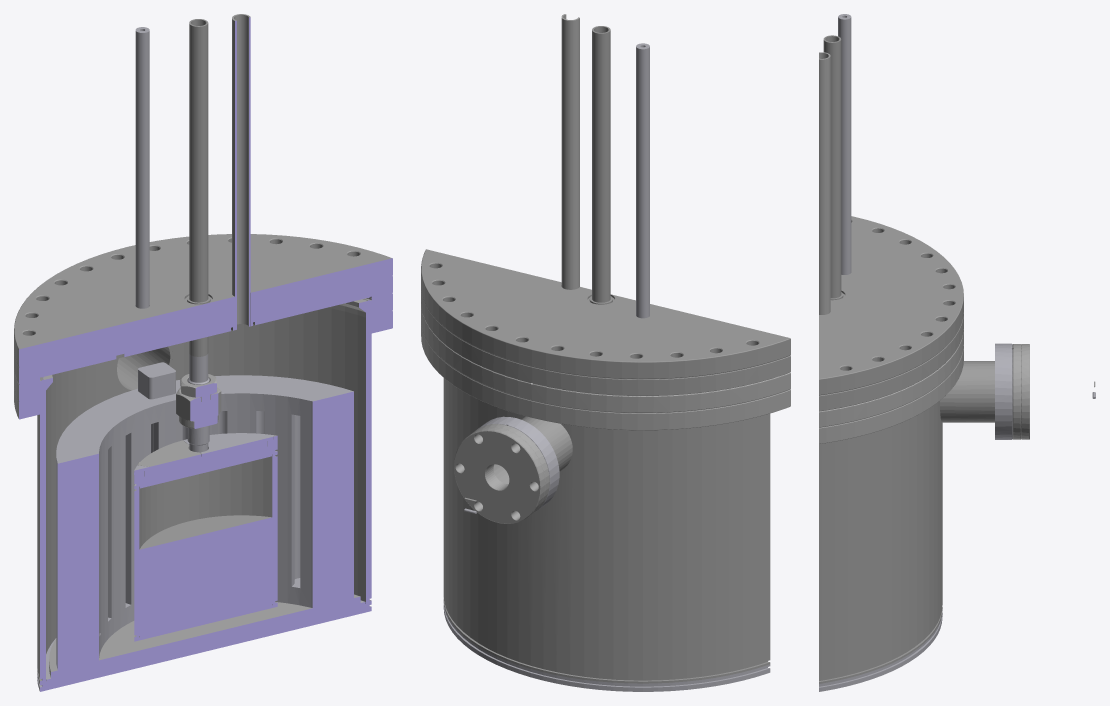
File: baby_1l_cutaway.glb
3 renders of one model, left to right at view 1: azimuth 30°, elevation 25°; view 2: azimuth 150°, elevation 25°; view 3: azimuth 270°, elevation 25°, orthographic. The views are drawn at different scales.
Parts seen in each view (by area): view 1: geometry_5, geometry_24, geometry_32, geometry_6, geometry_33, geometry_16, geometry_49, geometry_30, geometry_34, geometry_31, geometry_23, geometry_25 (+16 smaller); view 2: geometry_24, geometry_32, geometry_20, geometry_56, geometry_30, geometry_34, geometry_31, geometry_22, geometry_43, geometry_42; view 3: geometry_24, geometry_32, geometry_20, geometry_30, geometry_34, geometry_31, geometry_42, geometry_43, geometry_56, geometry_22.
Boxes of the visible parts, bbox=[...] form: geometry_5: bbox=[56, 362, 353, 668]; geometry_24: bbox=[37, 307, 370, 682]; geometry_32: bbox=[14, 234, 391, 383]; geometry_6: bbox=[57, 391, 353, 670]; geometry_33: bbox=[19, 258, 392, 384]; geometry_16: bbox=[139, 517, 272, 636]; geometry_49: bbox=[134, 454, 276, 637]; geometry_30: bbox=[189, 19, 208, 356]; geometry_34: bbox=[232, 14, 250, 325]; geometry_31: bbox=[135, 27, 149, 308]; geometry_23: bbox=[40, 602, 371, 691]; geometry_25: bbox=[40, 316, 371, 683]; geometry_24: bbox=[443, 378, 770, 683]; geometry_32: bbox=[421, 249, 790, 395]; geometry_20: bbox=[421, 302, 790, 430]; geometry_56: bbox=[454, 424, 549, 523]; geometry_30: bbox=[592, 26, 610, 302]; geometry_34: bbox=[561, 14, 579, 289]; geometry_31: bbox=[636, 43, 649, 318]; geometry_22: bbox=[443, 601, 770, 691]; geometry_43: bbox=[477, 416, 559, 511]; geometry_42: bbox=[493, 416, 572, 484]; geometry_24: bbox=[819, 401, 942, 683]; geometry_32: bbox=[819, 216, 963, 411]; geometry_20: bbox=[819, 329, 963, 443]; geometry_30: bbox=[823, 35, 841, 298]; geometry_34: bbox=[819, 52, 830, 314]; geometry_31: bbox=[838, 14, 851, 274]; geometry_42: bbox=[940, 361, 994, 422]; geometry_43: bbox=[995, 343, 1012, 439]; geometry_56: bbox=[1012, 344, 1029, 439]; geometry_22: bbox=[819, 609, 942, 691].
Bounding box in the file's own units: 0.2886 × 0.4596 × 0.1996.
